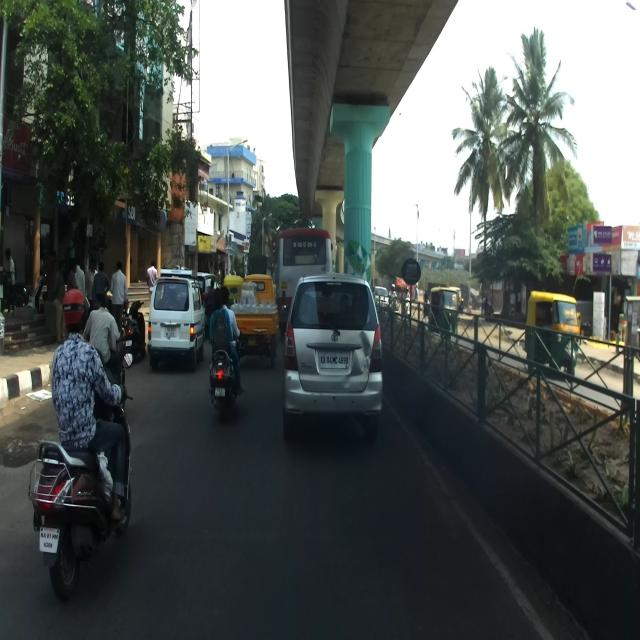Car_Maruti-Suzuki: (146, 267, 206, 372)
Car_Toyota: (279, 272, 384, 442)
scooter: (25, 351, 134, 601), (205, 324, 242, 421)
